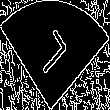L_SW: (34, 27, 76, 83)
